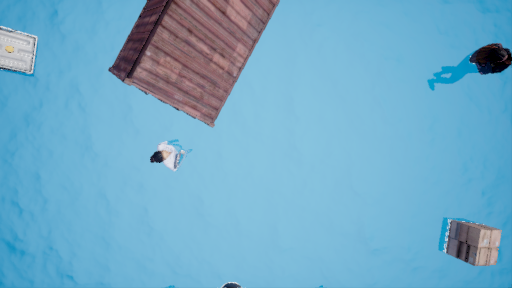person: (137, 136, 207, 177)
